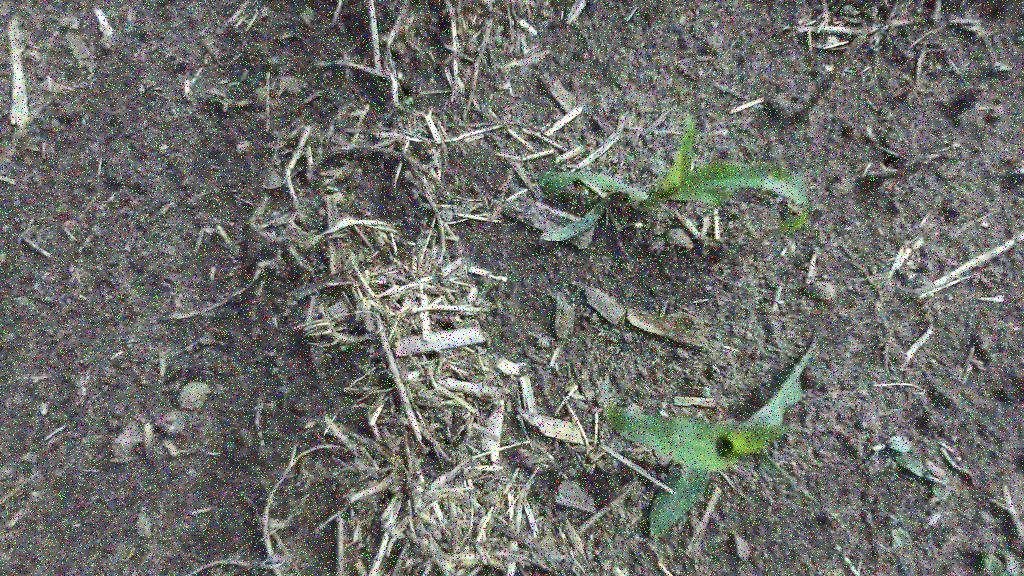BroWeed: (891, 448, 952, 492), (880, 517, 914, 554), (975, 542, 1007, 576), (870, 435, 914, 454), (225, 65, 254, 93), (926, 483, 953, 509), (231, 136, 255, 158), (865, 34, 883, 55), (882, 540, 900, 557), (993, 60, 1013, 74), (53, 202, 69, 218), (337, 339, 353, 355), (402, 93, 416, 107), (0, 251, 7, 269), (217, 77, 231, 85), (1014, 36, 1024, 41)
Maize: (598, 334, 853, 544), (534, 73, 811, 243)
